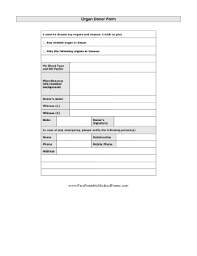checkbox: (42, 39, 46, 45), (42, 49, 46, 53)
textbox: (66, 70, 158, 97), (39, 159, 159, 170), (39, 167, 159, 178), (39, 153, 158, 163), (40, 53, 158, 63), (68, 61, 158, 73), (68, 93, 157, 105), (56, 146, 158, 156), (67, 107, 157, 118), (68, 100, 157, 111), (112, 114, 158, 128), (55, 114, 93, 127), (114, 138, 158, 149), (114, 131, 157, 141), (55, 138, 93, 149), (55, 131, 92, 142)
